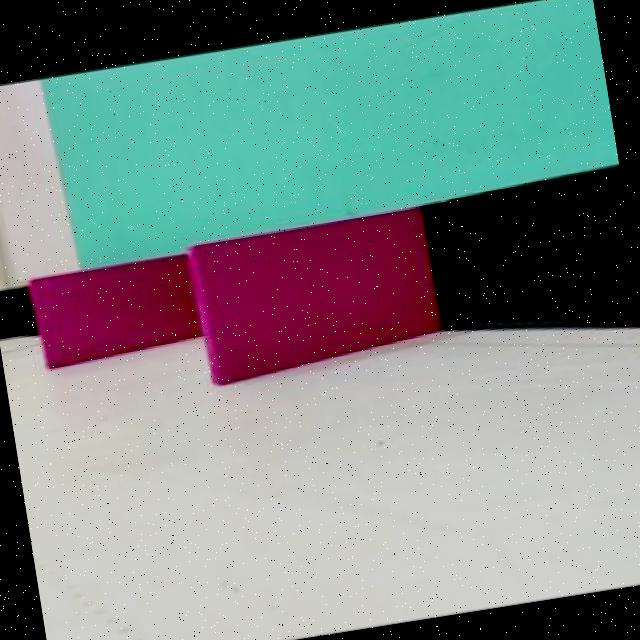xparking: (191, 212, 438, 369), (31, 256, 197, 361)
